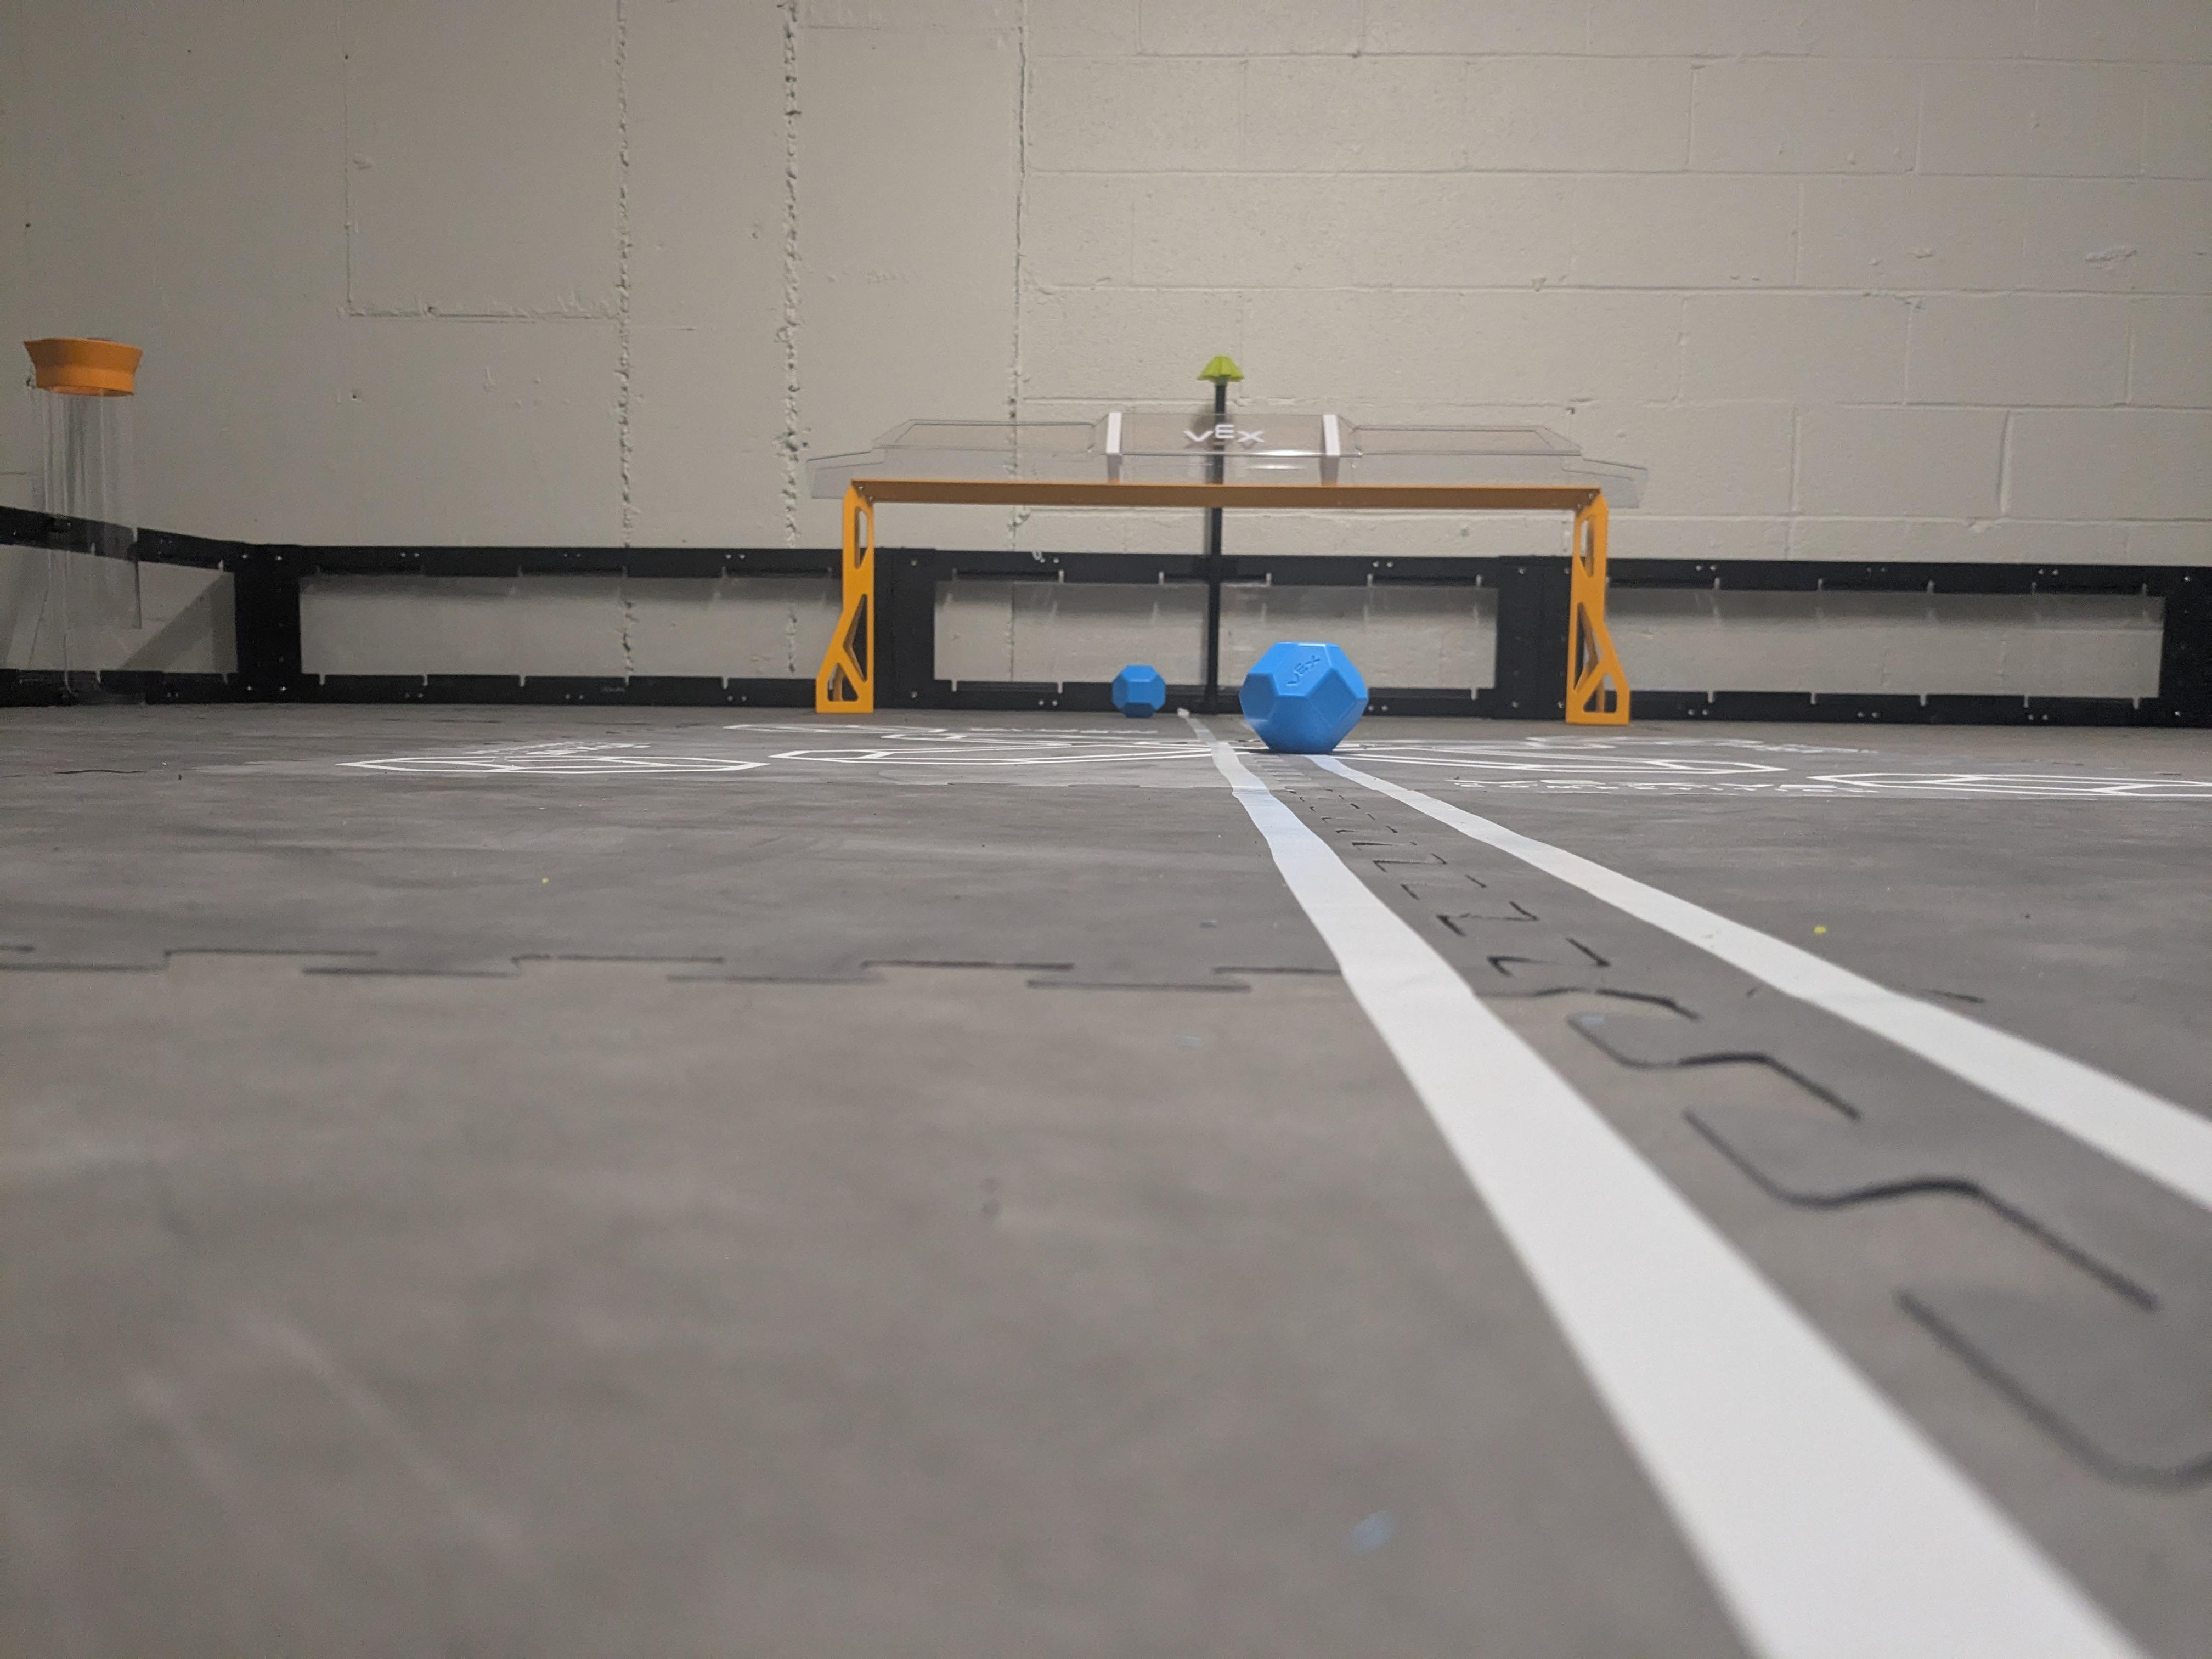Vex-Pieces-BLUE: (1244, 643, 1364, 749), (1111, 664, 1165, 718)
